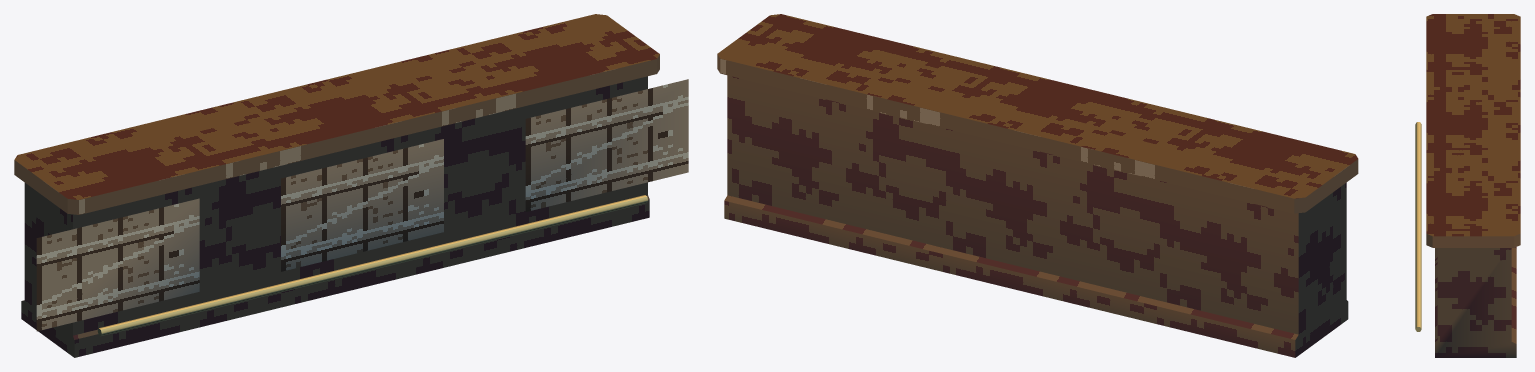
The model's file is wprop.bar.glb.
The picture shows the model from 3 angles, left to right: view 1: azimuth 30°, elevation 25°; view 2: azimuth 150°, elevation 25°; view 3: azimuth 270°, elevation 25°; orthographic projection. The views are drawn at different scales.
Parts seen in each view (by area): view 1: kit_card_panels, kit_top, kit_body, kit_rail; view 2: kit_body, kit_top; view 3: kit_top, kit_body, kit_rail.
Part boxes in pixels (x1,y1,x2,y2): kit_card_panels: (36, 79, 688, 331); kit_top: (14, 14, 659, 214); kit_body: (21, 76, 649, 357); kit_rail: (97, 195, 648, 335); kit_body: (724, 75, 1348, 357); kit_top: (717, 14, 1358, 213); kit_top: (1426, 14, 1520, 247); kit_body: (1435, 247, 1516, 357); kit_rail: (1415, 122, 1421, 331).
Bounding box in the file's own units: 4.53 × 1.08 × 0.825.
Materials: 4 (3 with a texture image).
